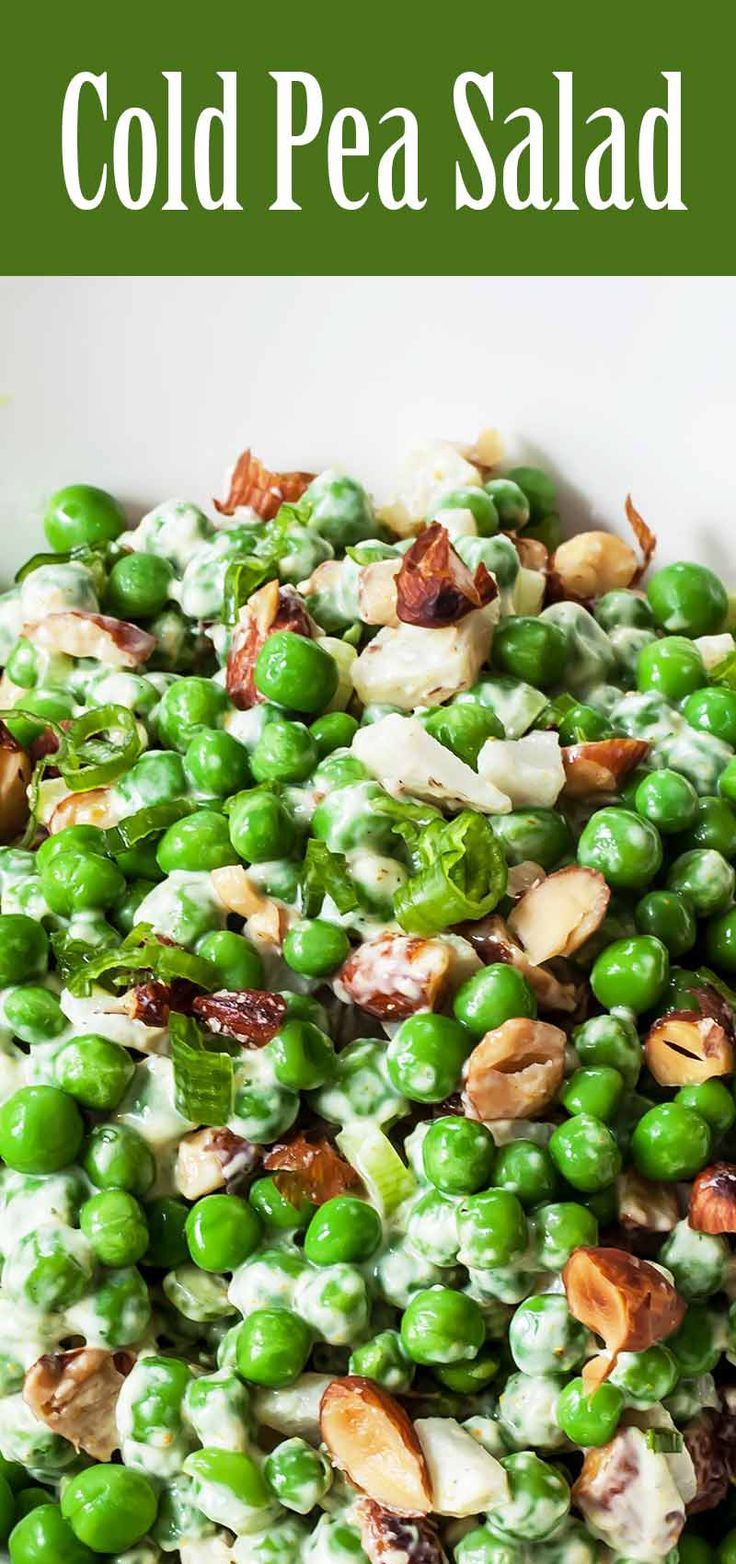boiled peas: (12, 458, 719, 1564)
